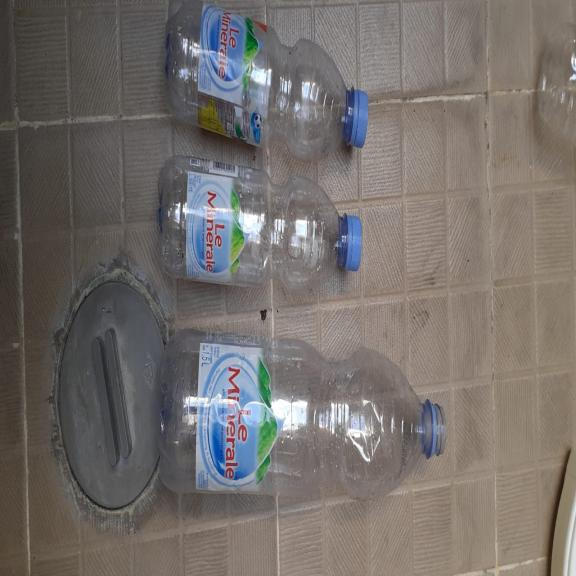Plastik: (156, 322, 448, 502), (163, 2, 370, 156), (158, 153, 363, 284), (534, 13, 576, 140)
